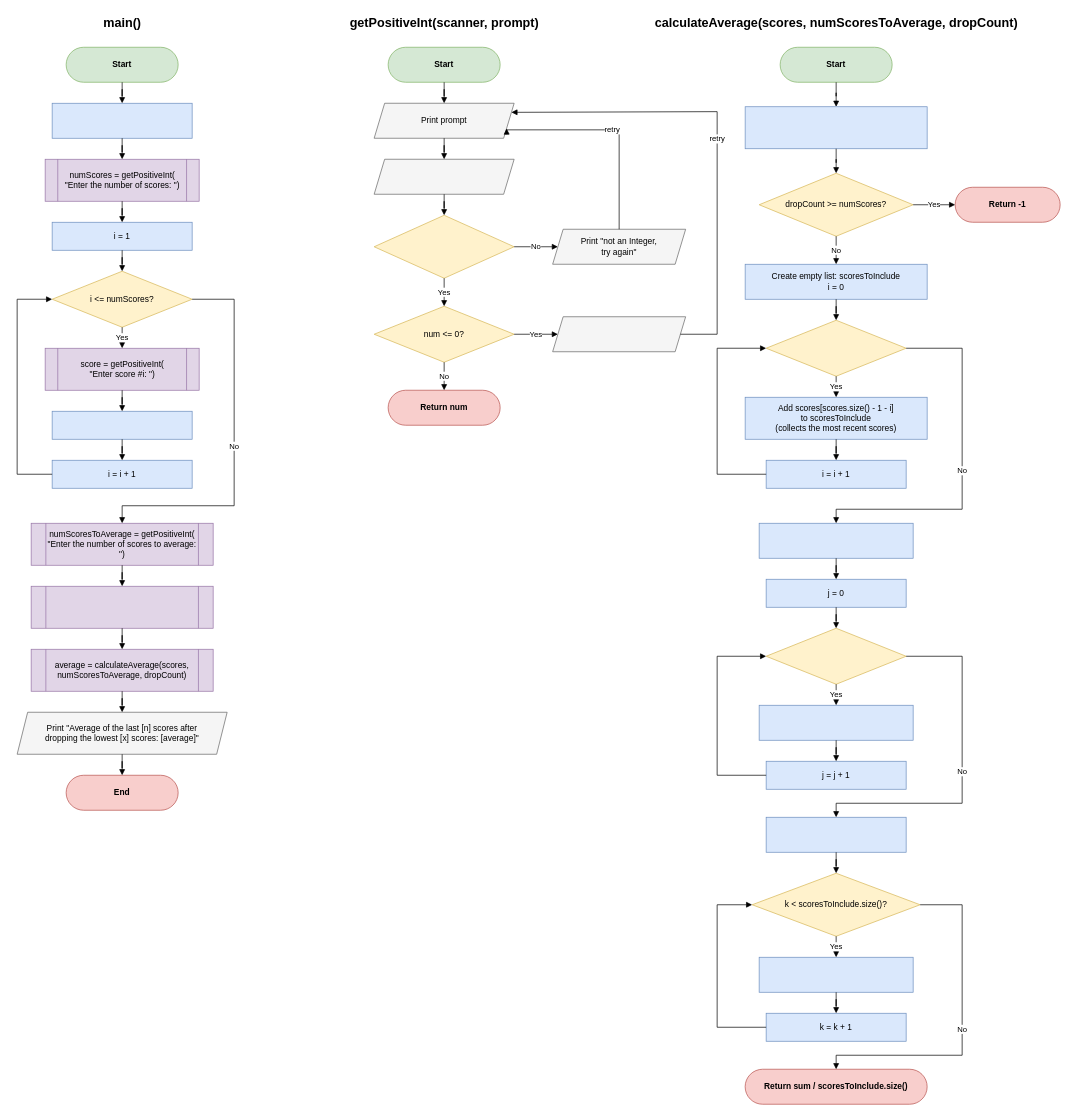
Some shapes in this 1072 by 1117 pixel diagram are drawn without their labels. Here are the shapes that lost their labels. From the top down, the centre of each, then its label:
point 121,120: Create Scanner and empty list: scores
point 835,127: numScores = smaller of numScoresToAverage and scores.size()
point 443,176: Read a line of input
point 443,246: Can the input be parsed as an integer?
point 619,334: Print "number is not positive, try again"
point 835,348: i < numScores?
point 121,425: Add score to scores
point 835,540: Sort scoresToInclude from lowest to highest
point 121,607: dropCount = getPositiveInt( "Enter the number of lowest scores to drop: ")
point 835,656: j < dropCount?
point 835,722: Remove the LOWEST score from scoresToInclude
point 835,834: sum = 0 k = 0
point 835,974: Add the k-th score of scoresToInclude to sum
